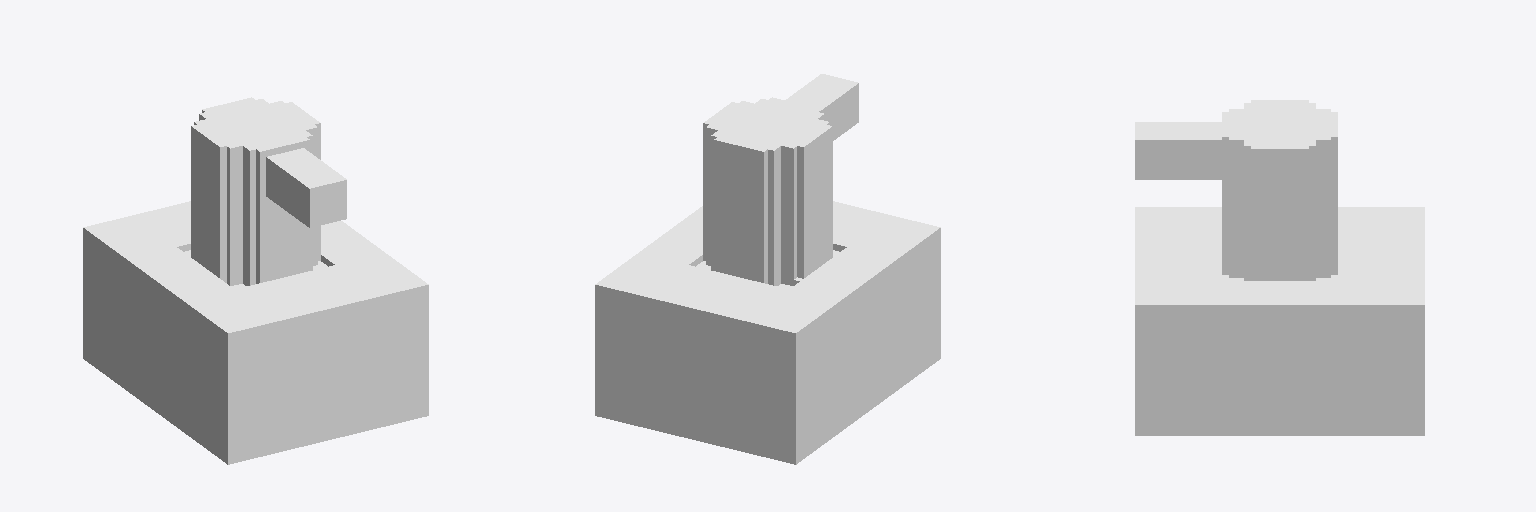
Rendered from tank2.obj.
The picture shows the model from 3 angles: view 1: azimuth 30°, elevation 25°; view 2: azimuth 150°, elevation 25°; view 3: azimuth 270°, elevation 25°; orthographic projection.
Bounding box in the file's own units: 32 × 40 × 40.